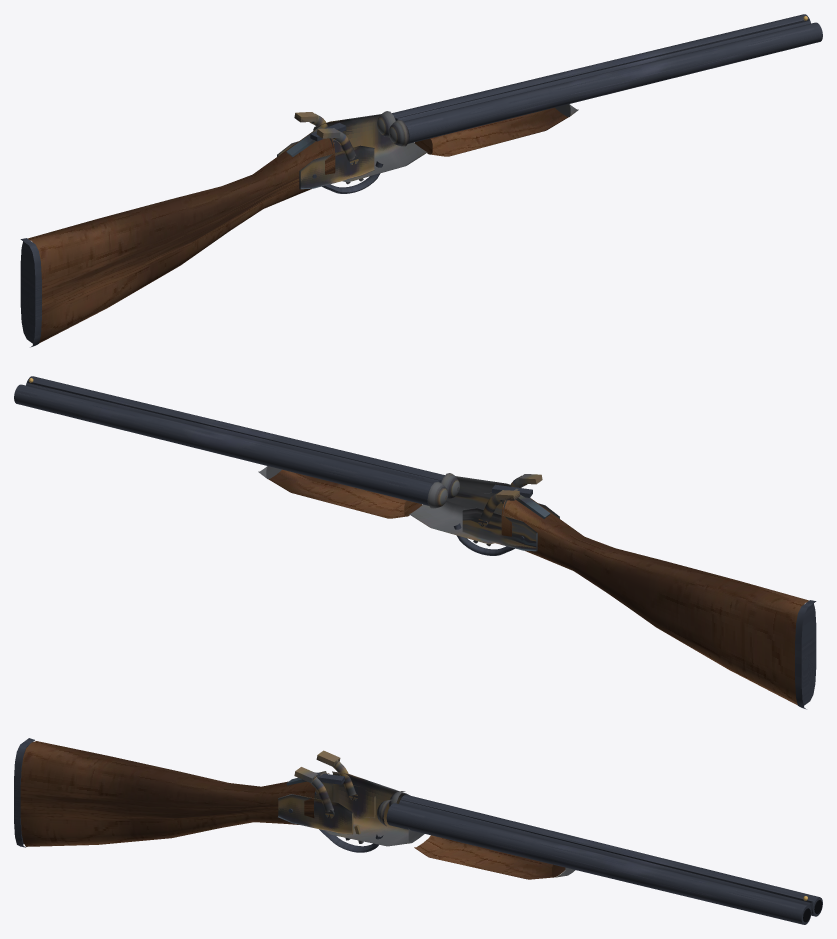
File: shotgun.glb
The picture shows the model from 3 angles, top to bottom: view 1: azimuth 30°, elevation 25°; view 2: azimuth 150°, elevation 25°; view 3: azimuth 330°, elevation 25°; orthographic projection.
Parts seen in each view (by area): view 1: shotgun; view 2: shotgun; view 3: shotgun.
Boxes of the visible parts, left/top/right/bottom form: shotgun: left=20, top=14, right=822, bottom=347; shotgun: left=14, top=376, right=816, bottom=709; shotgun: left=14, top=738, right=822, bottom=924.
Size of the model in its own units: 0.9669 by 0.1783 by 0.0602.
1 material, 1 textured.
